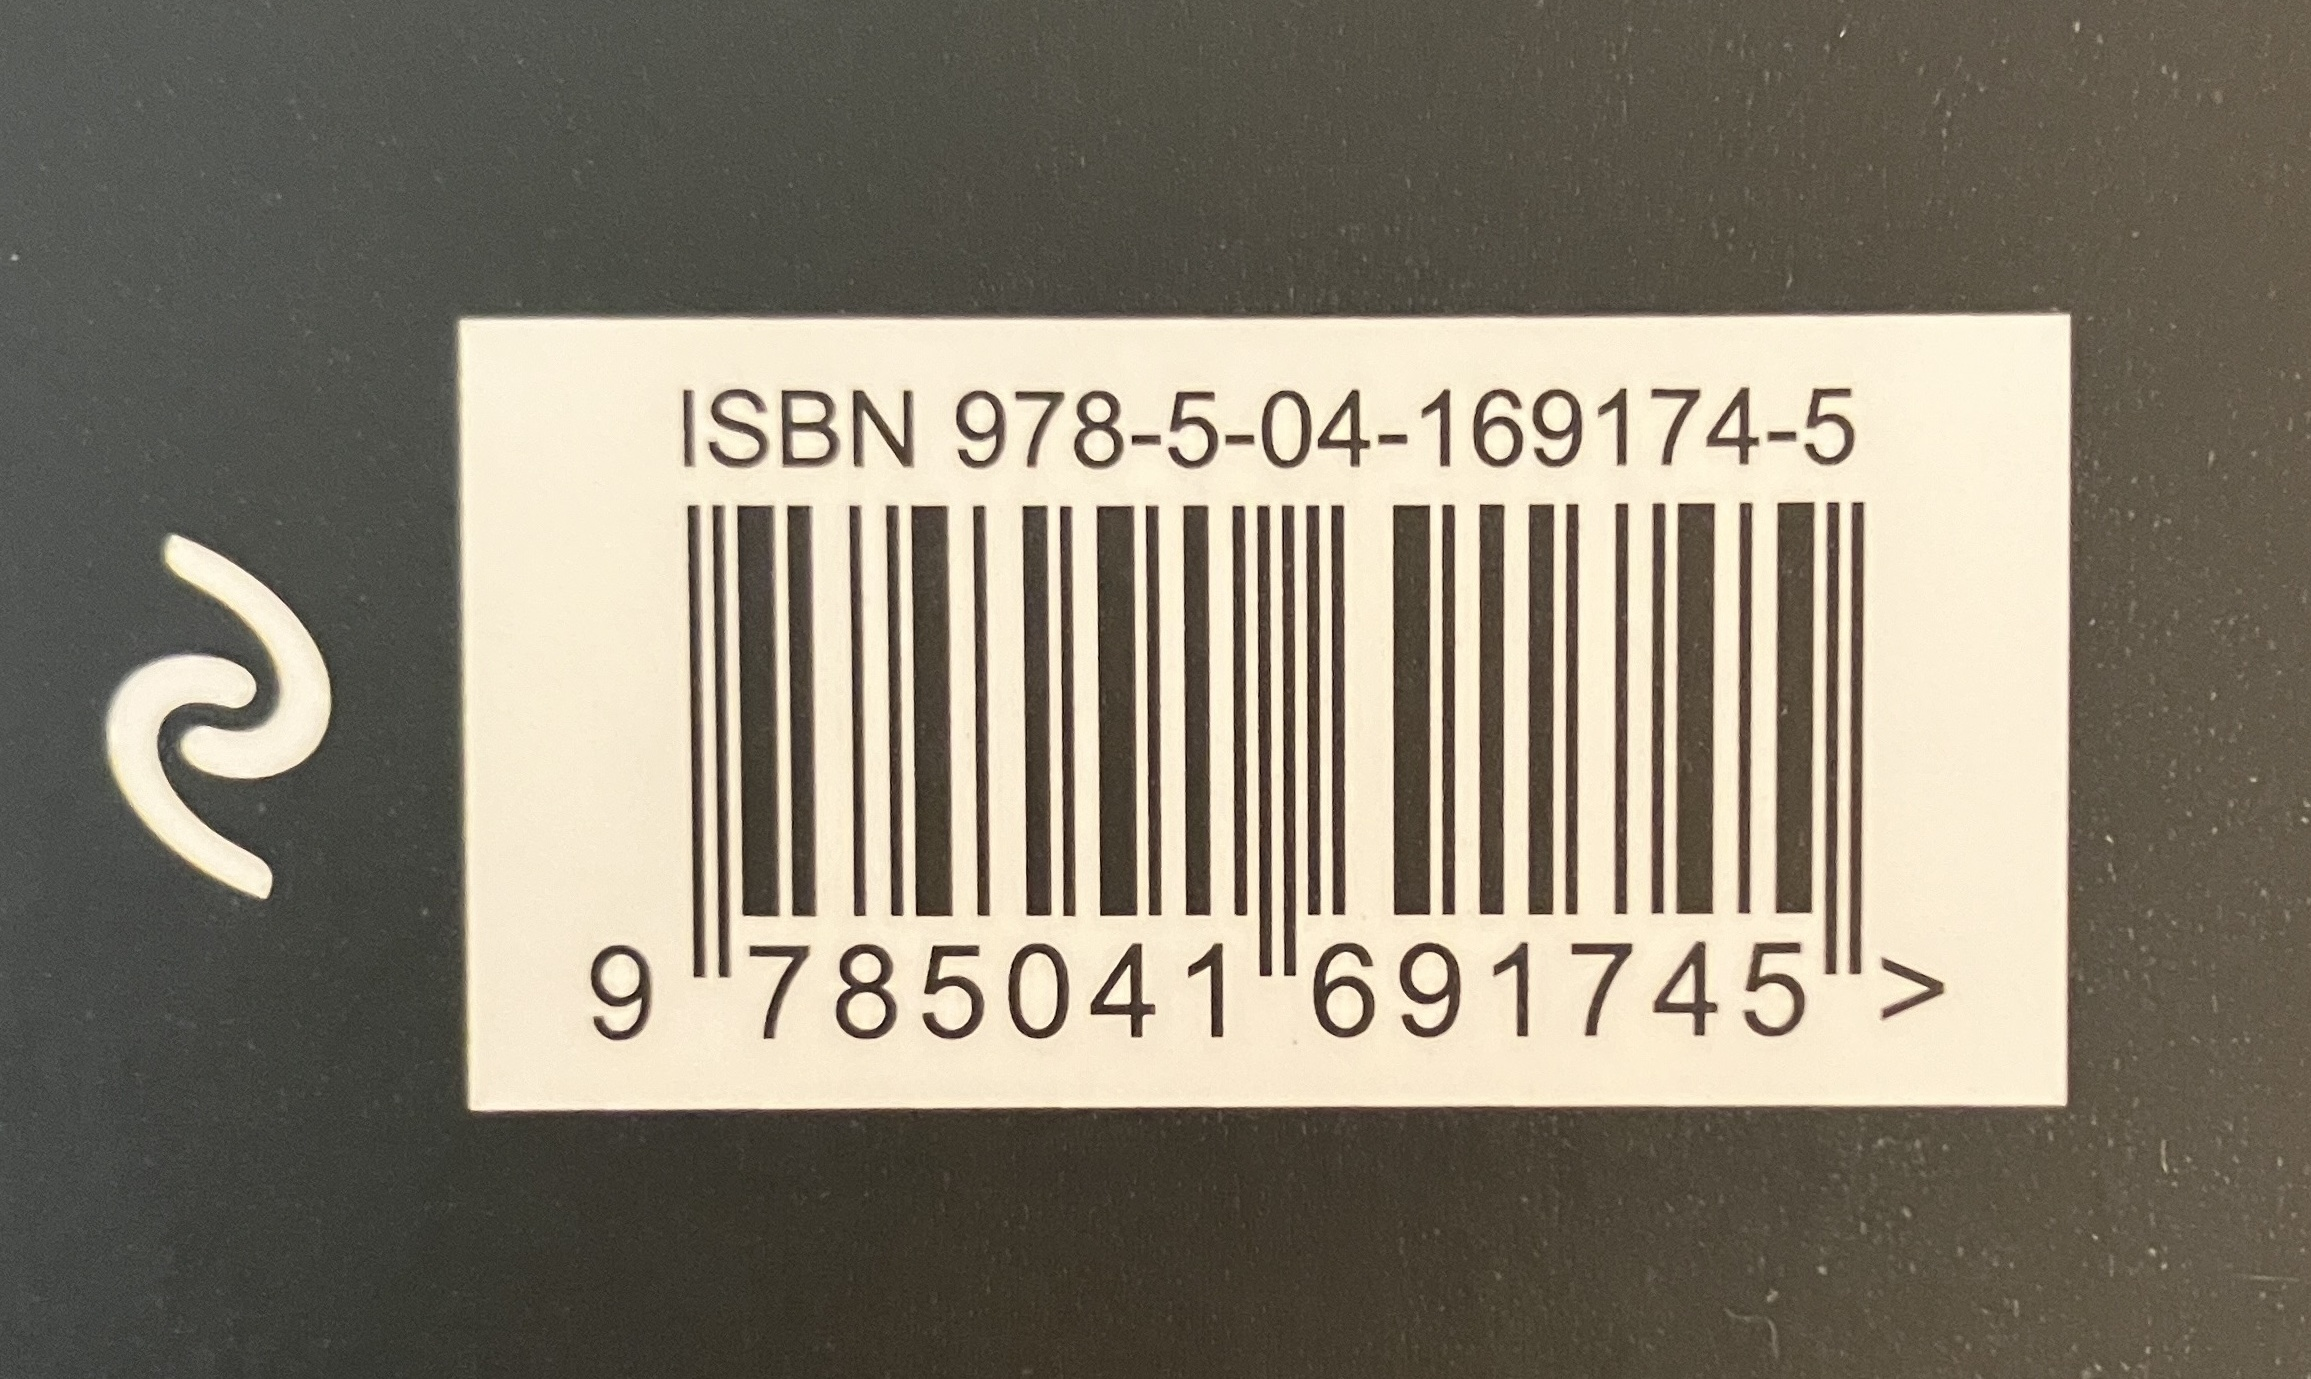1d: (688, 502, 1863, 980)
